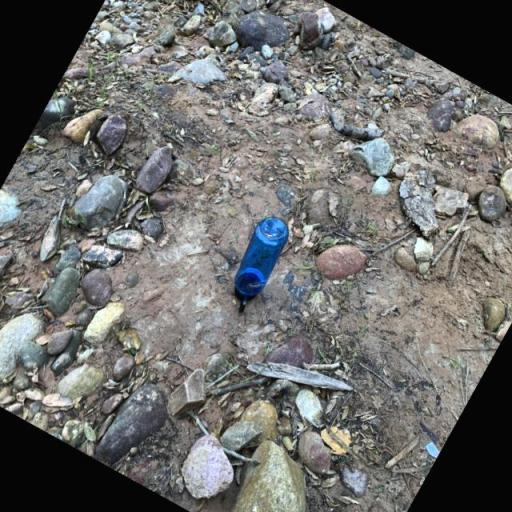bottle: (215, 210, 297, 318)
